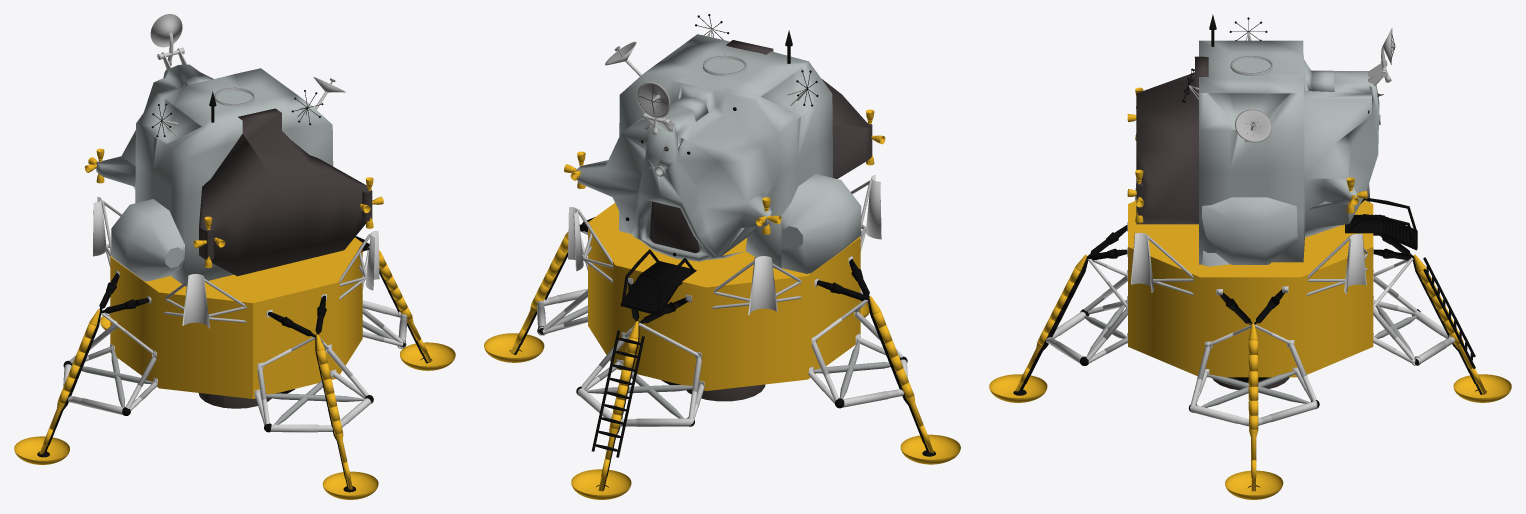
File: landerEdits.glb
3 renders of one model, left to right at view 1: azimuth 30°, elevation 25°; view 2: azimuth 150°, elevation 25°; view 3: azimuth 270°, elevation 25°, orthographic. The views are drawn at different scales.
Parts seen in each view (by area): view 1: lunarlandernofoil_carbajal_3; view 2: lunarlandernofoil_carbajal_3; view 3: lunarlandernofoil_carbajal_3.
Boxes of the visible parts, x1,y1,x2,y2 form: lunarlandernofoil_carbajal_3: [14, 14, 455, 499]; lunarlandernofoil_carbajal_3: [484, 14, 960, 499]; lunarlandernofoil_carbajal_3: [989, 14, 1511, 499].
Size of the model in its own units: 6.49 by 5.01 by 6.49.
